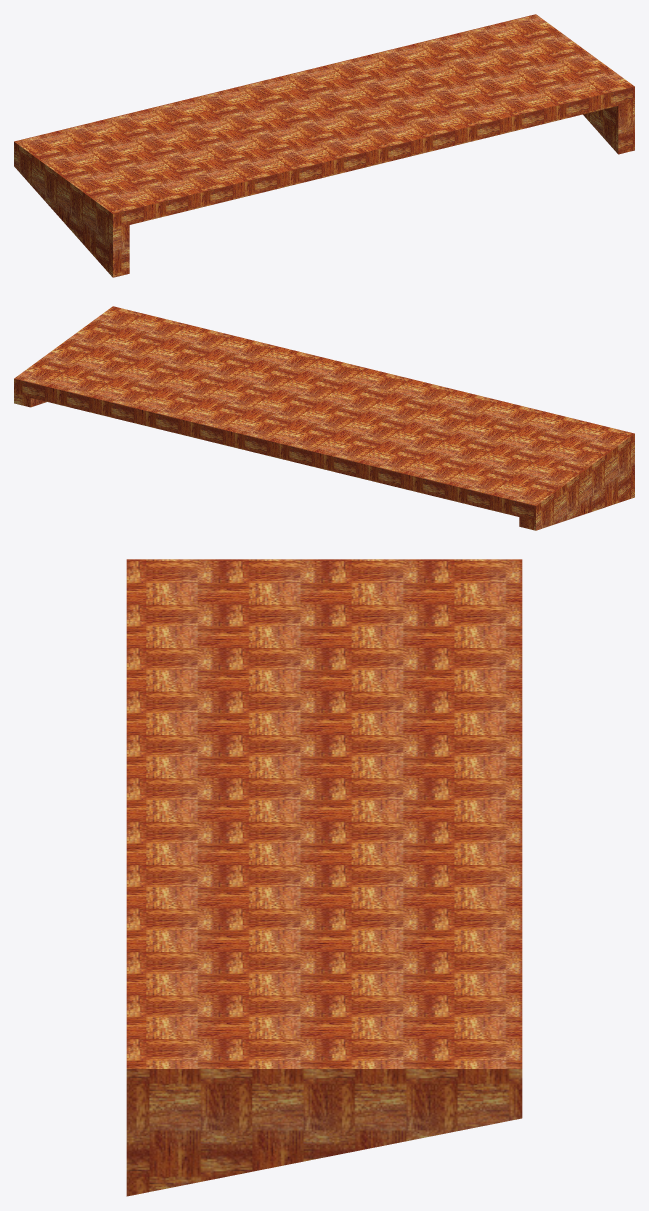
Rendered from Shelf_02.fbx.
3 renders of one model, top to bottom at view 1: azimuth 30°, elevation 25°; view 2: azimuth 150°, elevation 25°; view 3: azimuth 270°, elevation 25°, orthographic. The views are drawn at different scales.
Visible parts, largest first — view 1: 立方体; view 2: 立方体; view 3: 立方体.
Part boxes in pixels (x1,y1,x2,y2): 立方体: (14, 14, 634, 277); 立方体: (14, 306, 634, 530); 立方体: (126, 559, 522, 1196).
Bounding box in the file's own units: 327 × 38.19 × 107.
